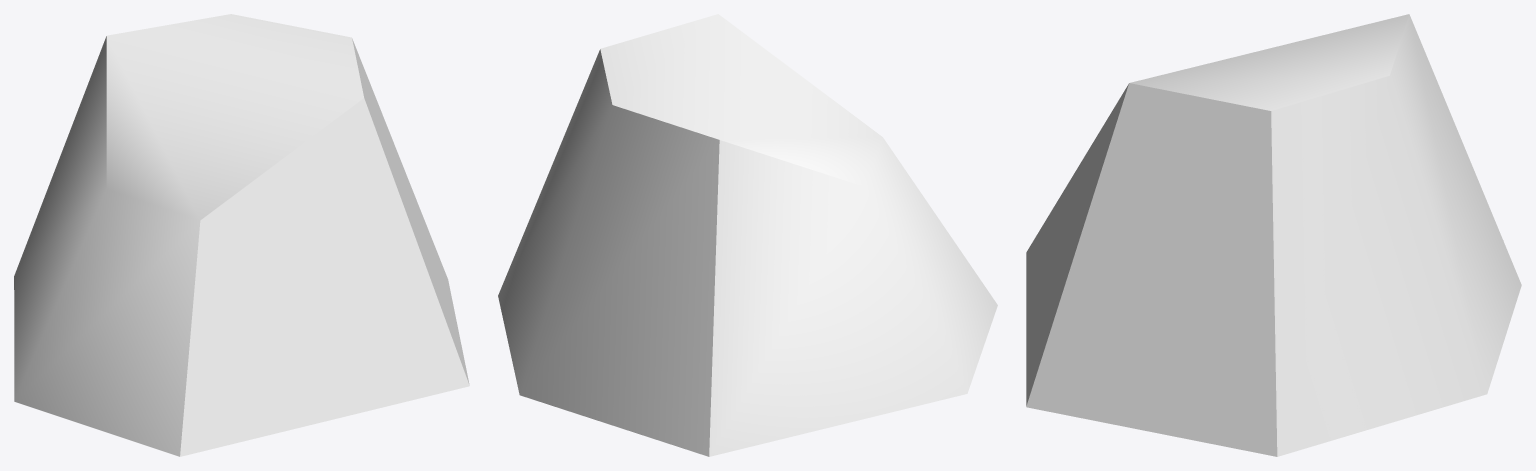
The model's file is water_ice_2.glb.
The picture shows the model from 3 angles, left to right: view 1: azimuth 30°, elevation 25°; view 2: azimuth 150°, elevation 25°; view 3: azimuth 270°, elevation 25°; orthographic projection. The views are drawn at different scales.
Visible parts, largest first — view 1: rock_single_D; view 2: rock_single_D; view 3: rock_single_D.
Boxes of the visible parts, x1,y1,x2,y2 form: rock_single_D: (14,14,469,456); rock_single_D: (498,14,997,456); rock_single_D: (1026,14,1521,456).
Bounding box in the file's own units: 0.2866 × 0.1629 × 0.2498.
Materials: 1 (1 with a texture image).
